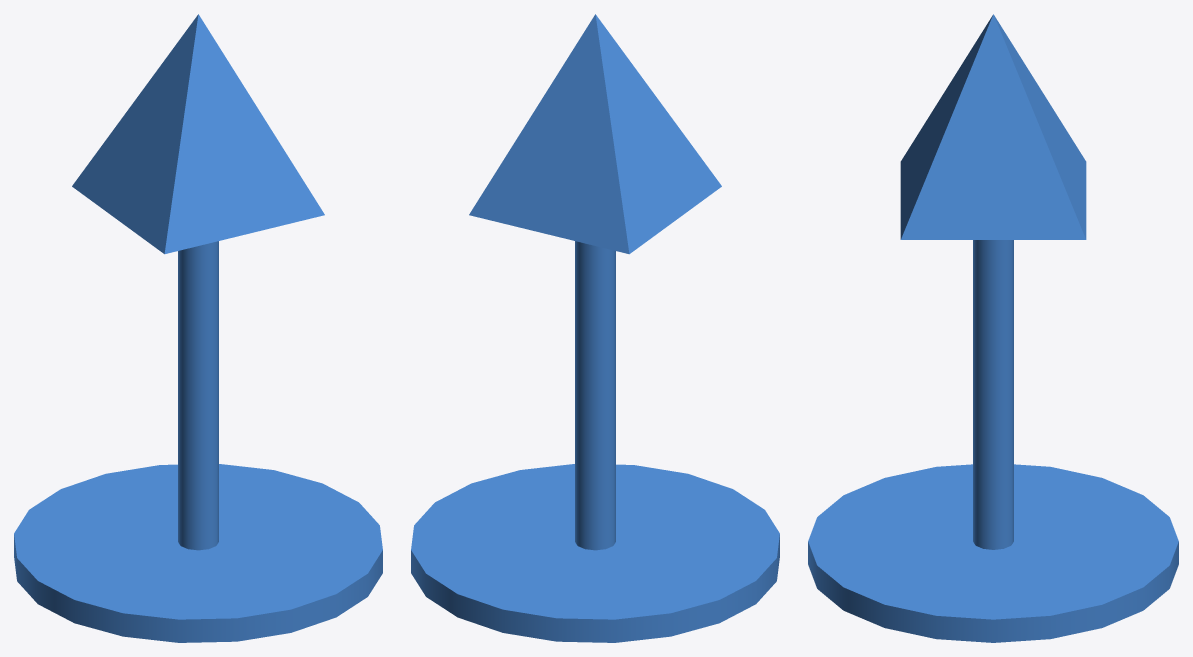
The model's file is marker_loot.glb.
3 renders of one model, left to right at view 1: azimuth 30°, elevation 25°; view 2: azimuth 150°, elevation 25°; view 3: azimuth 270°, elevation 25°, orthographic.
Visible parts, largest first — view 1: EDITOR_ONLY_colored_base.001, EDITOR_ONLY_marker_tip.001, EDITOR_ONLY_stem.001; view 2: EDITOR_ONLY_colored_base.001, EDITOR_ONLY_marker_tip.001, EDITOR_ONLY_stem.001; view 3: EDITOR_ONLY_colored_base.001, EDITOR_ONLY_marker_tip.001, EDITOR_ONLY_stem.001.
Boxes of the visible parts, bbox=[...] form: EDITOR_ONLY_colored_base.001: bbox=[14, 464, 382, 642]; EDITOR_ONLY_marker_tip.001: bbox=[72, 14, 324, 254]; EDITOR_ONLY_stem.001: bbox=[178, 241, 218, 550]; EDITOR_ONLY_colored_base.001: bbox=[411, 464, 779, 642]; EDITOR_ONLY_marker_tip.001: bbox=[469, 14, 721, 254]; EDITOR_ONLY_stem.001: bbox=[575, 241, 615, 550]; EDITOR_ONLY_colored_base.001: bbox=[808, 464, 1178, 642]; EDITOR_ONLY_marker_tip.001: bbox=[900, 14, 1086, 239]; EDITOR_ONLY_stem.001: bbox=[973, 240, 1013, 549].
Size of the model in its own units: 0.72 by 1.18 by 0.72.
